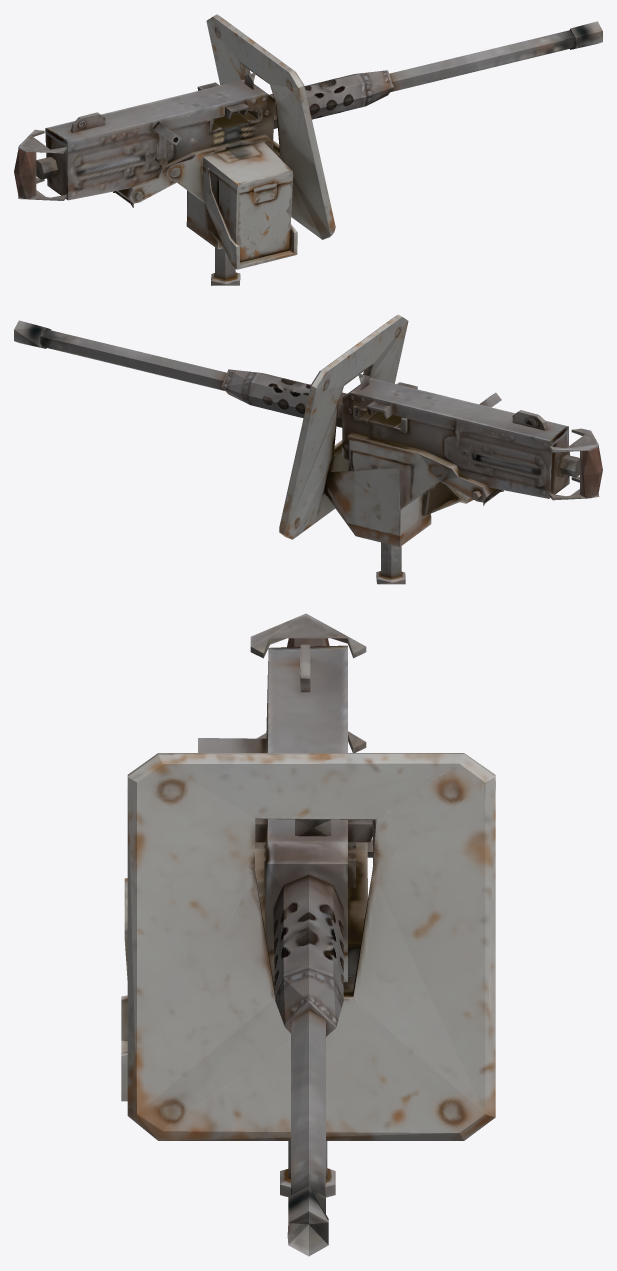
The model's file is car_m_v2_gun.glb.
The picture shows the model from 3 angles, top to bottom: view 1: azimuth 30°, elevation 25°; view 2: azimuth 150°, elevation 25°; view 3: azimuth 270°, elevation 25°; orthographic projection. The views are drawn at different scales.
Visible parts, largest first — view 1: geometry_0; view 2: geometry_0; view 3: geometry_0.
Boxes of the visible parts, left/top/right/bottom form: geometry_0: left=14, top=14, right=602, bottom=285; geometry_0: left=14, top=314, right=602, bottom=584; geometry_0: left=121, top=613, right=495, bottom=1256.
Size of the model in its own units: 1.24 by 0.4748 by 0.3472.
1 material, 1 textured.
